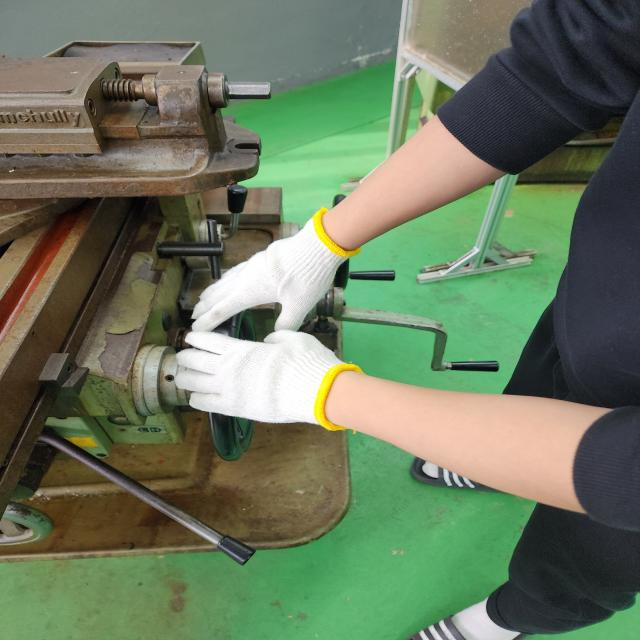Boots: (192, 210, 352, 327), (174, 330, 355, 431)
